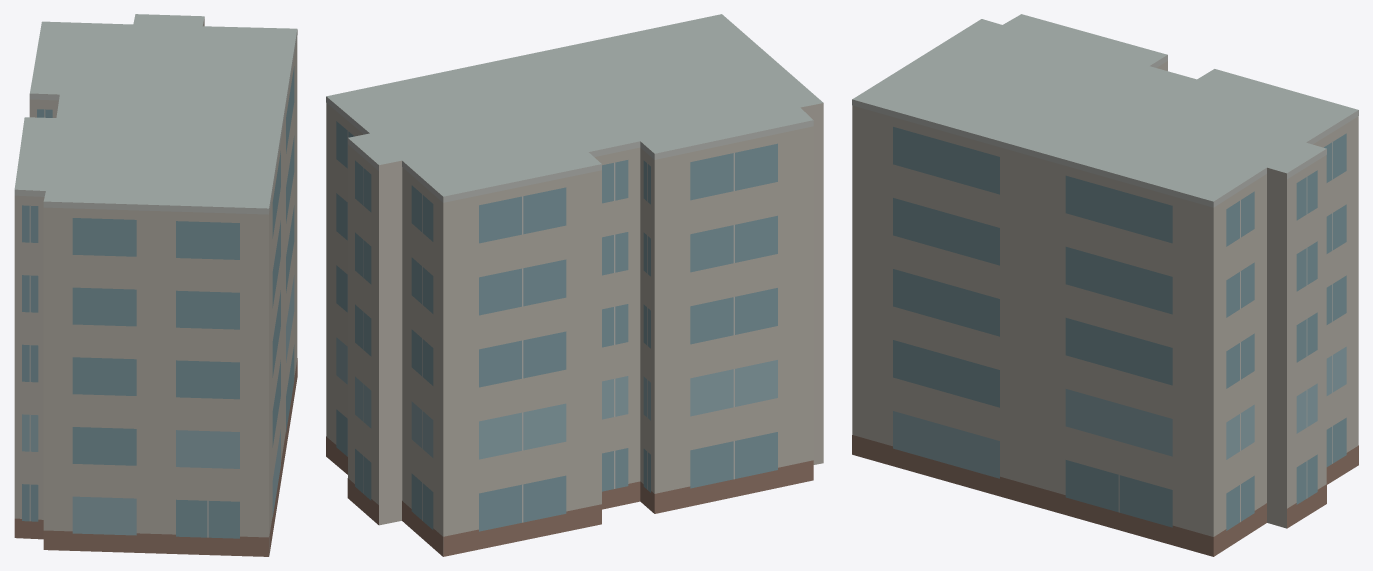
The model's file is survey-upis-32700598.glb.
3 renders of one model, left to right at view 1: azimuth 30°, elevation 25°; view 2: azimuth 150°, elevation 25°; view 3: azimuth 270°, elevation 25°, orthographic. The views are drawn at different scales.
Visible parts, largest first — view 1: survey-upis-32700598.tmp; view 2: survey-upis-32700598.tmp; view 3: survey-upis-32700598.tmp.
Boxes of the visible parts, x1,y1,x2,y2 form: survey-upis-32700598.tmp: [14, 14, 297, 556]; survey-upis-32700598.tmp: [326, 14, 823, 556]; survey-upis-32700598.tmp: [852, 14, 1358, 556].
Bounding box in the file's own units: 16.09 × 14.2 × 18.36.
